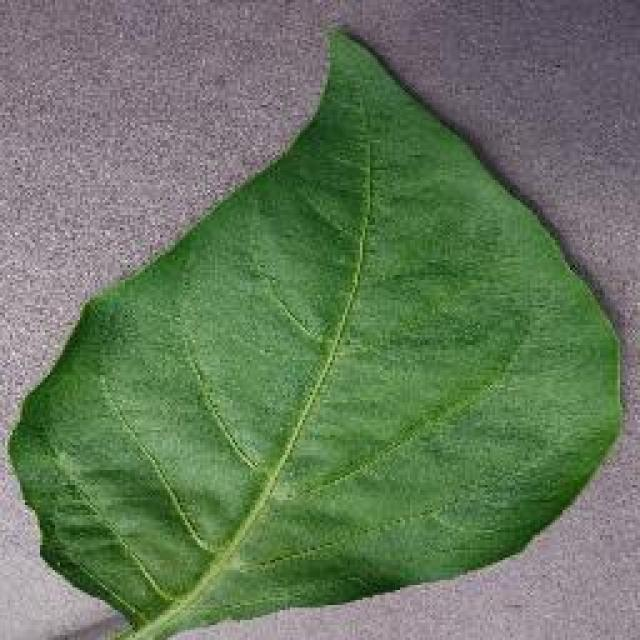Chilli_Healthy: (5, 20, 623, 638)
